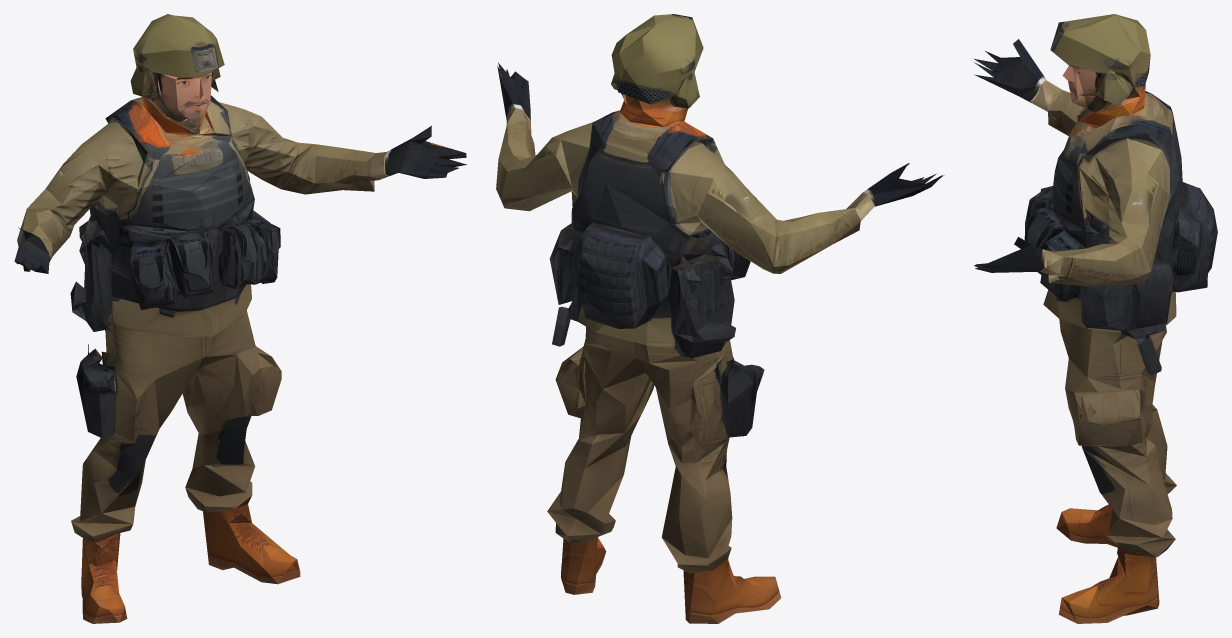
3 renders of one model, left to right at view 1: azimuth 30°, elevation 25°; view 2: azimuth 150°, elevation 25°; view 3: azimuth 270°, elevation 25°, orthographic.
Parts seen in each view (by area): view 1: output_unwrapped; view 2: output_unwrapped; view 3: output_unwrapped.
Part boxes in pixels (box(x1,y1,x2,y2)): output_unwrapped: box(14, 14, 466, 623); output_unwrapped: box(496, 14, 944, 623); output_unwrapped: box(973, 14, 1217, 623).
Size of the model in its own units: 1.55 by 1.89 by 0.7466.
1 material, 1 textured.
